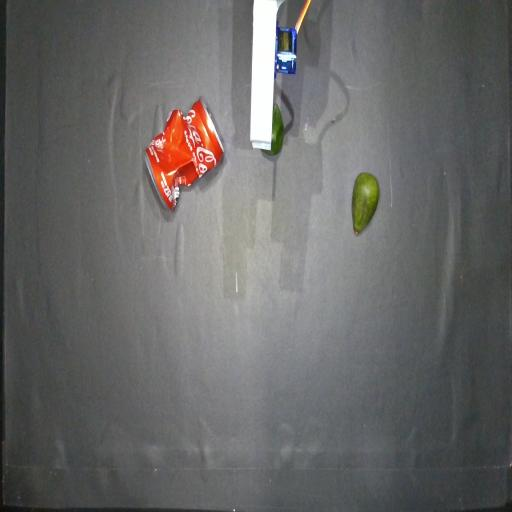higo: (352, 173, 379, 234), (262, 104, 284, 155)
lata_defectuoso: (145, 98, 223, 210)
